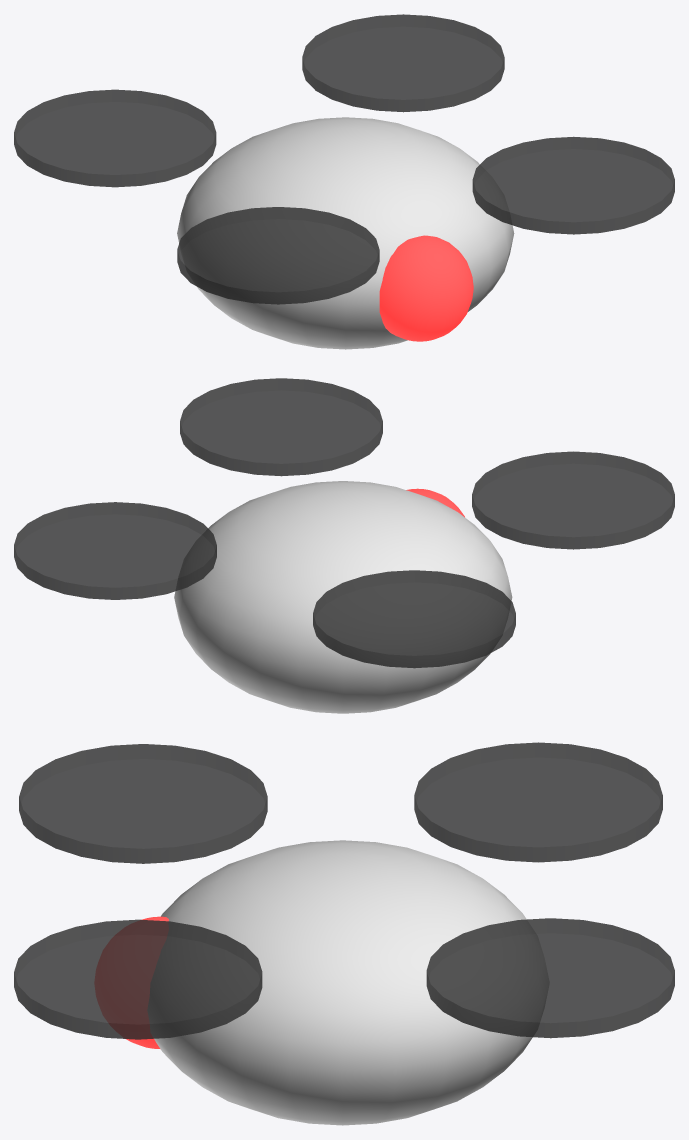
The model's file is drone.glb.
The picture shows the model from 3 angles, top to bottom: view 1: azimuth 30°, elevation 25°; view 2: azimuth 150°, elevation 25°; view 3: azimuth 270°, elevation 25°; orthographic projection. The views are drawn at different scales.
Parts seen in each view (by area): view 1: drone; view 2: drone; view 3: drone.
Part boxes in pixels (left/top/right/bottom): drone: left=14, top=14, right=674, bottom=349; drone: left=14, top=378, right=674, bottom=713; drone: left=14, top=742, right=674, bottom=1125.
Bounding box in the file's own units: 0.8061 × 0.3 × 0.798.
